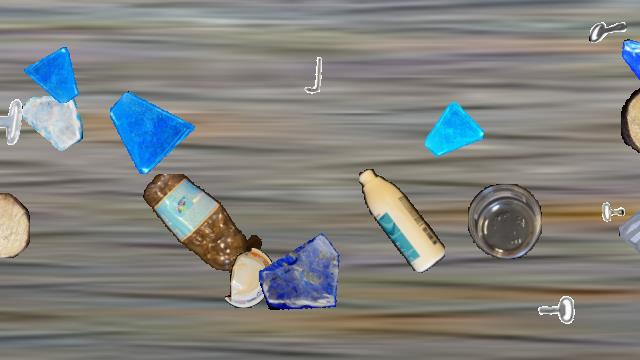glass: (259, 227, 345, 313), (110, 89, 194, 173), (22, 93, 82, 153), (425, 102, 483, 160), (24, 46, 80, 102), (618, 36, 640, 106), (619, 189, 640, 261)
metal: (527, 294, 577, 344), (586, 200, 634, 248), (292, 55, 332, 95), (589, 12, 627, 50), (0, 97, 26, 149)
plastic: (140, 174, 264, 272), (359, 169, 445, 273), (468, 184, 542, 258), (225, 248, 275, 308)
wood: (0, 193, 30, 257), (621, 85, 640, 155)
